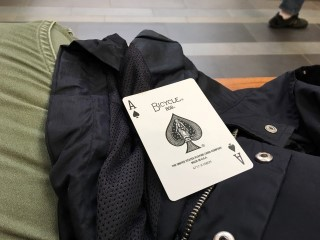AceOfSpades: (122, 78, 254, 202)
